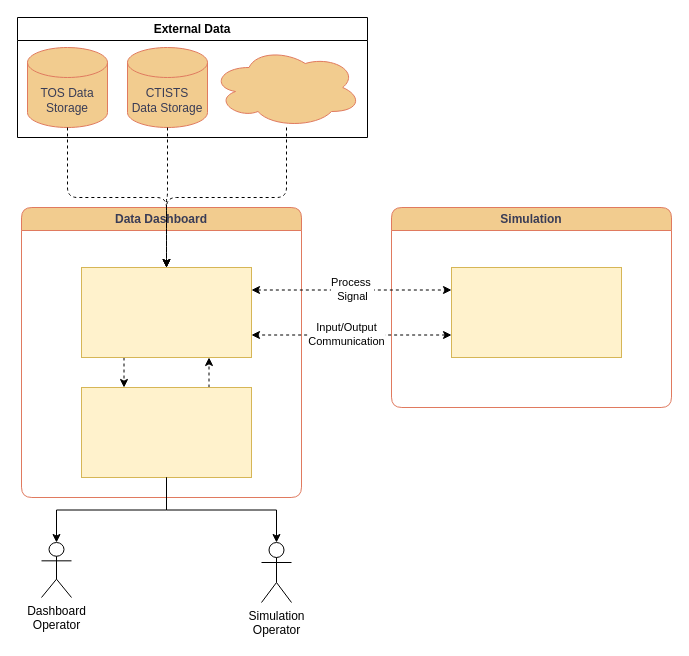
Image size: 689x656. Some labels were removed from this diagram. Here are the shapes that lost their labels. From the top down, the centre of each, then its label:
the point at 286,87: Device Geospatial API
the point at 166,312: Backend
the point at 536,312: Anylogic DES Model
the point at 166,432: Frontend
